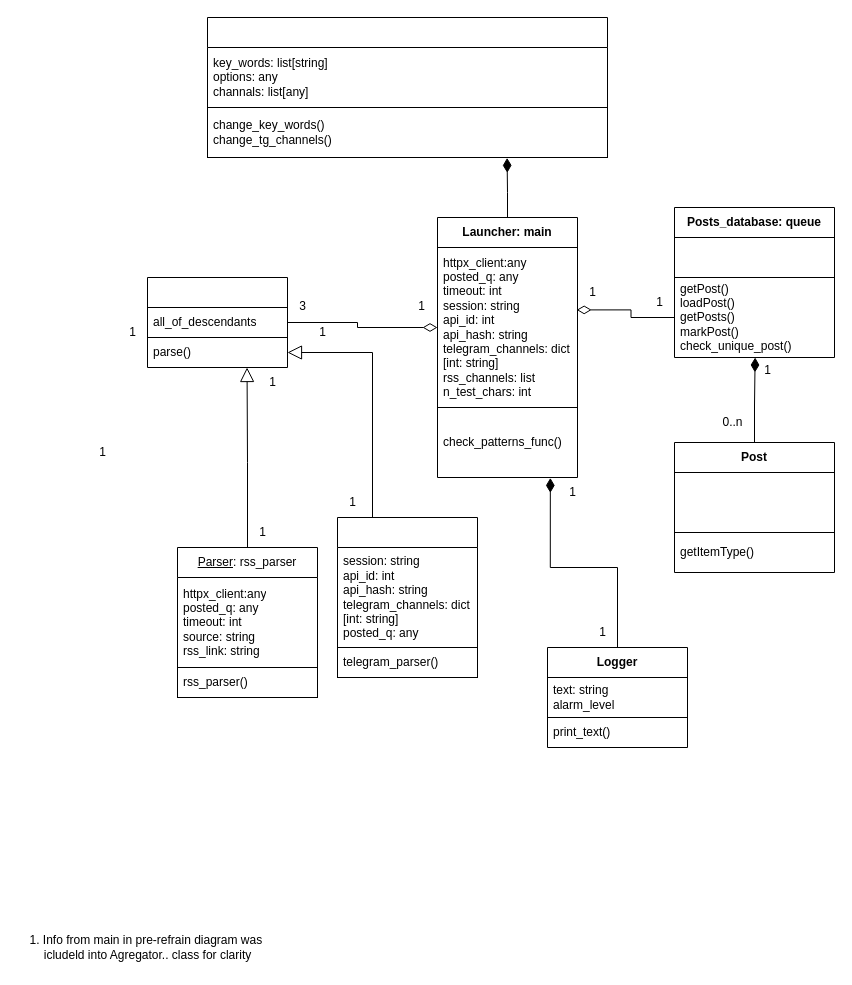
The diagram is 852 pixels wide and 985 high, and some of its shapes have lost their labels. The shapes that lost their labels are listed below. From the top down, each one's box as (x1, y1, x2, y2) in pixels, then its label:
(206, 16, 608, 158): Interface: Agregator of news System
(674, 236, 834, 278): name: string columns: list
(146, 276, 288, 368): Parser
(674, 472, 834, 532): name: string id: string content: text_area
(336, 516, 478, 678): Parser : telegram_parser
